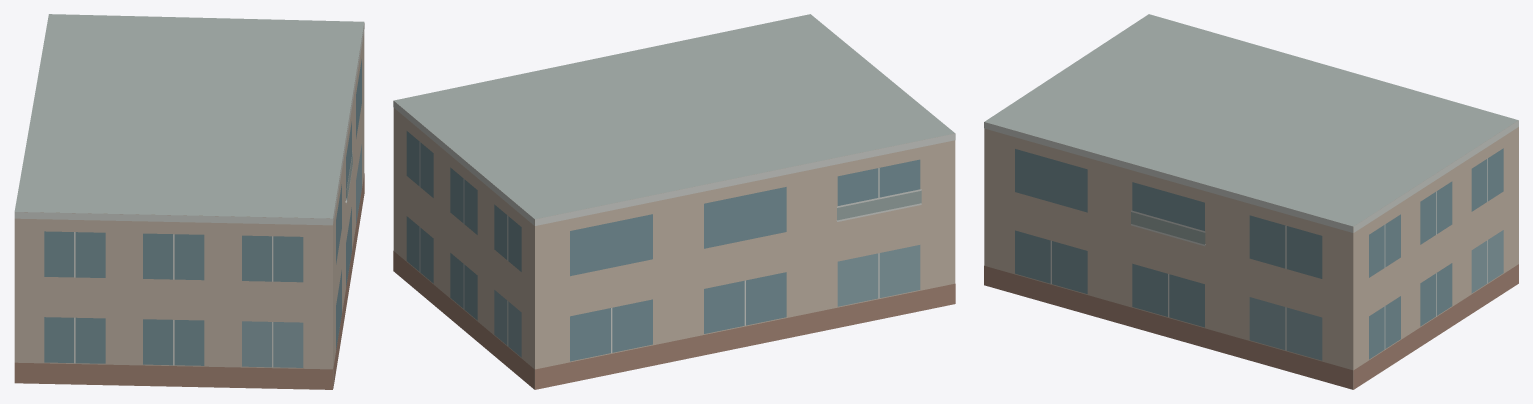
Rendered from survey-upis-32653697.glb.
3 views of the same model, side by side, from view 1: azimuth 30°, elevation 25°; view 2: azimuth 150°, elevation 25°; view 3: azimuth 270°, elevation 25° (orthographic). The views are drawn at different scales.
Parts seen in each view (by area): view 1: survey-upis-32653697.tmp; view 2: survey-upis-32653697.tmp; view 3: survey-upis-32653697.tmp.
Boxes of the visible parts, bbox=[...] form: survey-upis-32653697.tmp: bbox=[14, 14, 364, 389]; survey-upis-32653697.tmp: bbox=[393, 14, 955, 389]; survey-upis-32653697.tmp: bbox=[984, 14, 1518, 389].
Bounding box in the file's own units: 17.04 × 6.1 × 18.11.
